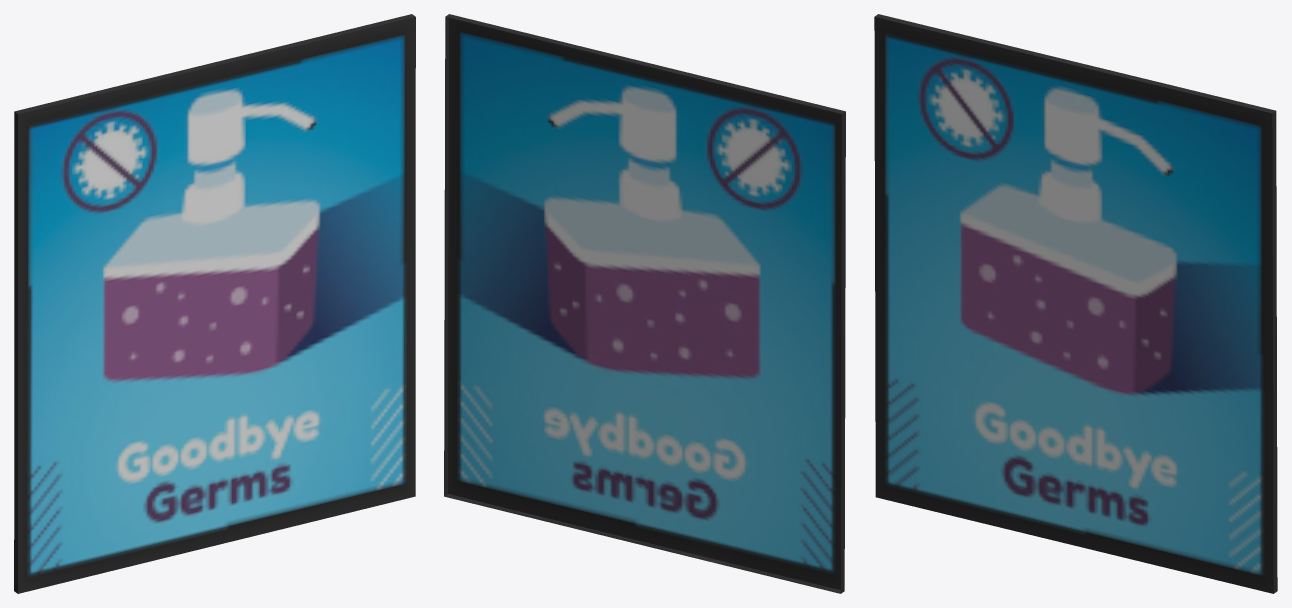
The model's file is PaintingA.fbx.
The picture shows the model from 3 angles, left to right: view 1: azimuth 30°, elevation 25°; view 2: azimuth 150°, elevation 25°; view 3: azimuth 330°, elevation 25°; orthographic projection.
Visible parts, largest first — view 1: PaintingA; view 2: PaintingA; view 3: PaintingA.
Part boxes in pixels (x1,y1,x2,y2): PaintingA: [14, 14, 415, 593]; PaintingA: [444, 14, 845, 593]; PaintingA: [874, 14, 1277, 593].
Size of the model in its own units: 66.77 by 77.05 by 1.33.
1 material, 1 textured.
